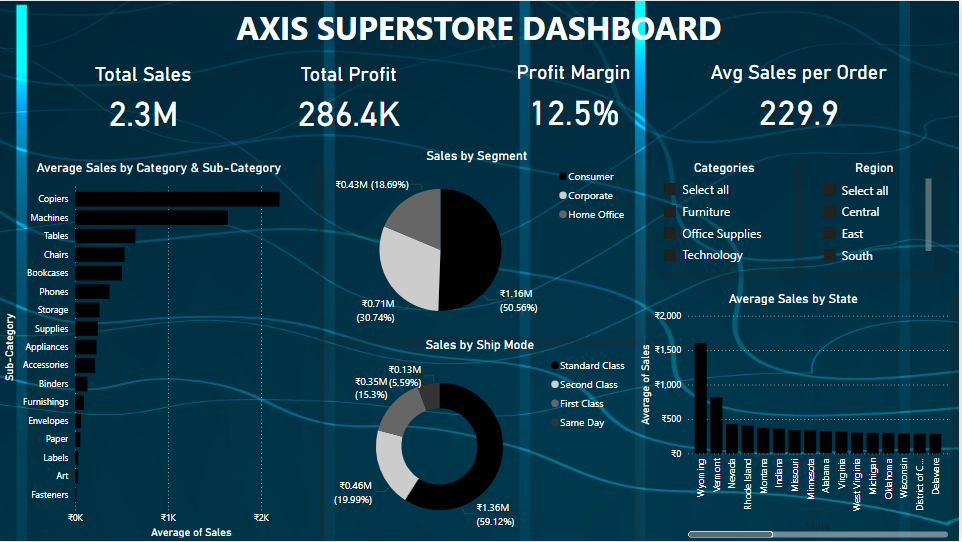

What the dashboard file says about the page in this screenshot:
{"tool":"powerbi","page":{"name":"Page 1","canvas":[1280,720],"ordinal":0},"visuals":[{"type":"card","title":"Total Sales","fields":{"Values":["Measures (2).total_sales"]},"box":[64,70,256,124],"z":0},{"type":"textbox","box":[168,0,944,150],"z":1000},{"type":"card","title":"Total Profit","fields":{"Values":["Measures (2).total_profit"]},"box":[326,70,280,124],"z":2000},{"type":"card","title":"Profit Margin","fields":{"Values":["Measures (2).profit_margin"]},"box":[606,68,320,124],"z":3000},{"type":"card","title":"Avg Sales per Order","fields":{"Values":["Measures (2).average_sales"]},"box":[926,68,280,124],"z":4000},{"type":"barChart","title":"Average Sales by Category & Sub-Category","fields":{"Category":["Orders.Sub-Category","Orders.Category"],"Y":["Avg(Orders.Sales)"]},"box":[0,212,426,508],"z":5000},{"type":"pieChart","title":"Sales by Segment","fields":{"Y":["Sum(Orders.Sales)"],"Category":["Orders.Segment"]},"box":[426,196,422,252],"z":6000},{"type":"columnChart","title":"Average Sales by State","fields":{"Y":["Avg(Orders.Sales)"],"Category":["Orders.State"]},"box":[848,386,422,334],"z":6001},{"type":"donutChart","title":"Sales by Ship Mode","fields":{"Y":["Sum(Orders.Sales)"],"Category":["Orders.Ship Mode"]},"box":[434,448,414,272],"z":6002},{"type":"slicer","title":"Categories","fields":{"Values":["Orders.Category"]},"box":[874,212,186,148],"z":6003},{"type":"slicer","title":"Region","fields":{"Values":["Orders.Region"]},"box":[1086,212,162,148],"z":6004}]}

Visuals, with their boxes in screenshot pixels (x1, y1, x2, y2), scaled from the page's 1280x720 canvas onto the 962x542 screenshot:
"Total Sales" card: rect(48, 53, 240, 146)
textbox: rect(126, 0, 836, 113)
"Total Profit" card: rect(245, 53, 455, 146)
"Profit Margin" card: rect(455, 51, 696, 145)
"Avg Sales per Order" card: rect(696, 51, 906, 145)
"Average Sales by Category & Sub-Category" barChart: rect(0, 160, 320, 541)
"Sales by Segment" pieChart: rect(320, 148, 637, 337)
"Average Sales by State" columnChart: rect(637, 291, 954, 541)
"Sales by Ship Mode" donutChart: rect(326, 337, 637, 541)
"Categories" slicer: rect(657, 160, 797, 271)
"Region" slicer: rect(816, 160, 938, 271)
